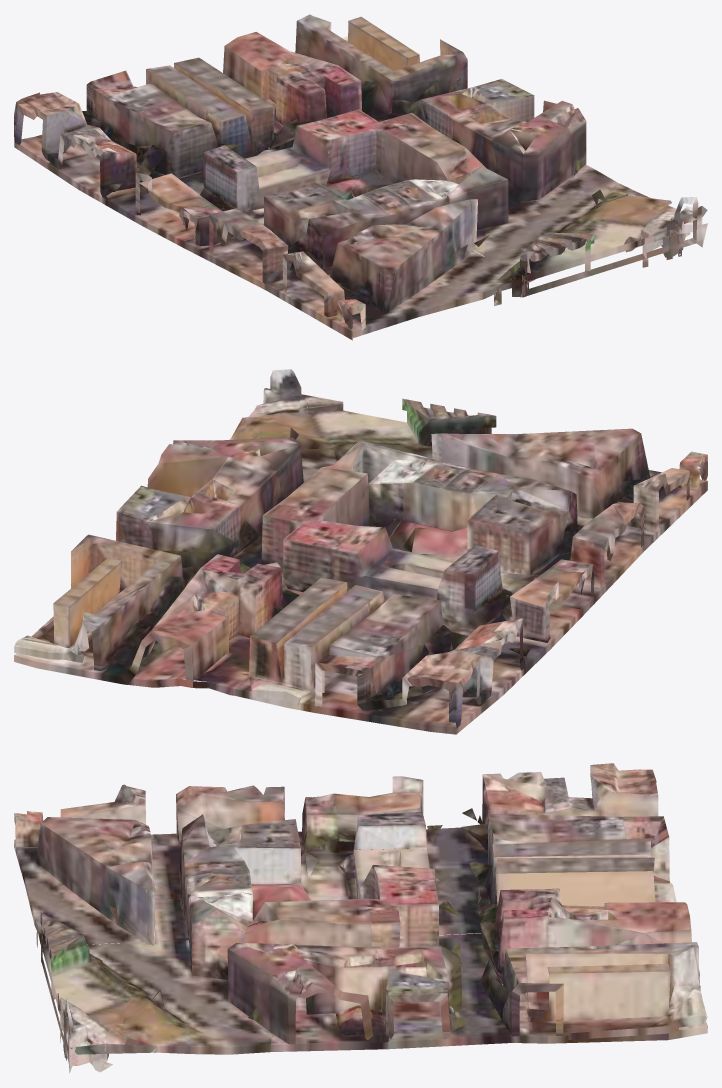
The picture shows the model from 3 angles, top to bottom: view 1: azimuth 30°, elevation 25°; view 2: azimuth 150°, elevation 25°; view 3: azimuth 270°, elevation 25°; orthographic projection. The views are drawn at different scales.
Visible parts, largest first — view 1: Mesh_0; view 2: Mesh_0; view 3: Mesh_0.
Part boxes in pixels (x1,y1,x2,y2): Mesh_0: (14,14,707,340); Mesh_0: (14,369,707,734); Mesh_0: (14,763,707,1072).
Size of the model in its own units: 270 by 44.85 by 330.
2 materials, 2 textured.
